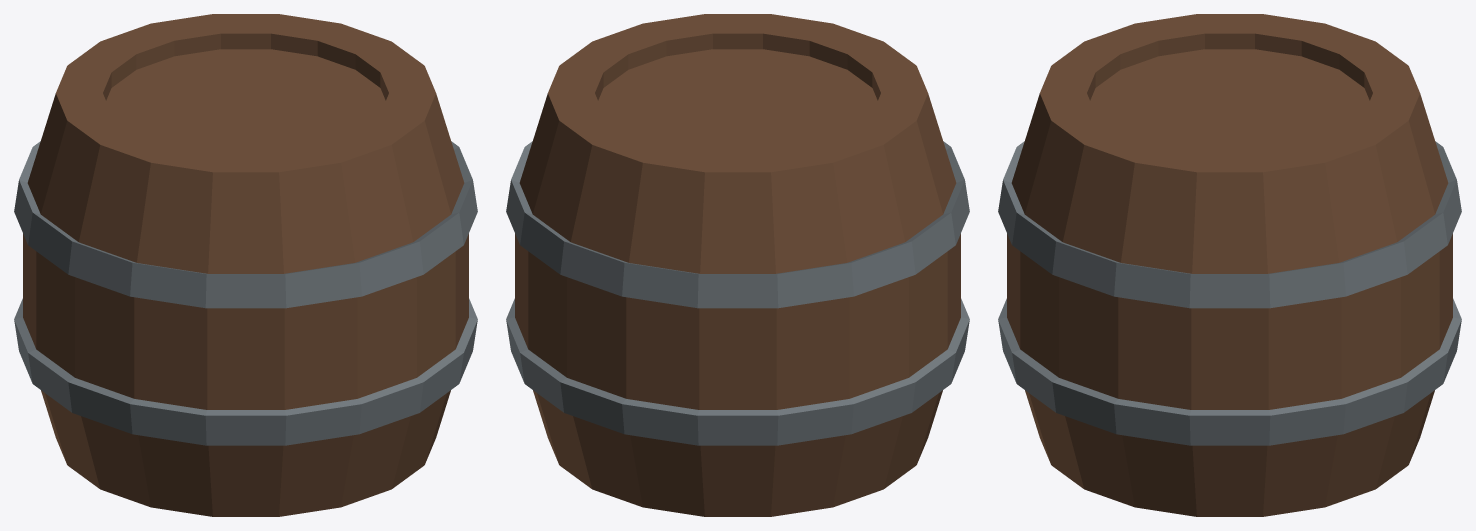
The model's file is Barrel.fbx.
3 renders of one model, left to right at view 1: azimuth 30°, elevation 25°; view 2: azimuth 150°, elevation 25°; view 3: azimuth 270°, elevation 25°, orthographic.
Visible parts, largest first — view 1: Cylinder, Cylinder.001; view 2: Cylinder, Cylinder.001; view 3: Cylinder, Cylinder.001.
Boxes of the visible parts, bbox=[...] form: Cylinder: bbox=[23, 14, 468, 516]; Cylinder.001: bbox=[14, 141, 477, 445]; Cylinder: bbox=[515, 14, 960, 516]; Cylinder.001: bbox=[506, 141, 969, 445]; Cylinder: bbox=[1007, 14, 1452, 516]; Cylinder.001: bbox=[998, 141, 1461, 445].
Size of the model in its own units: 240 by 200 by 244.
